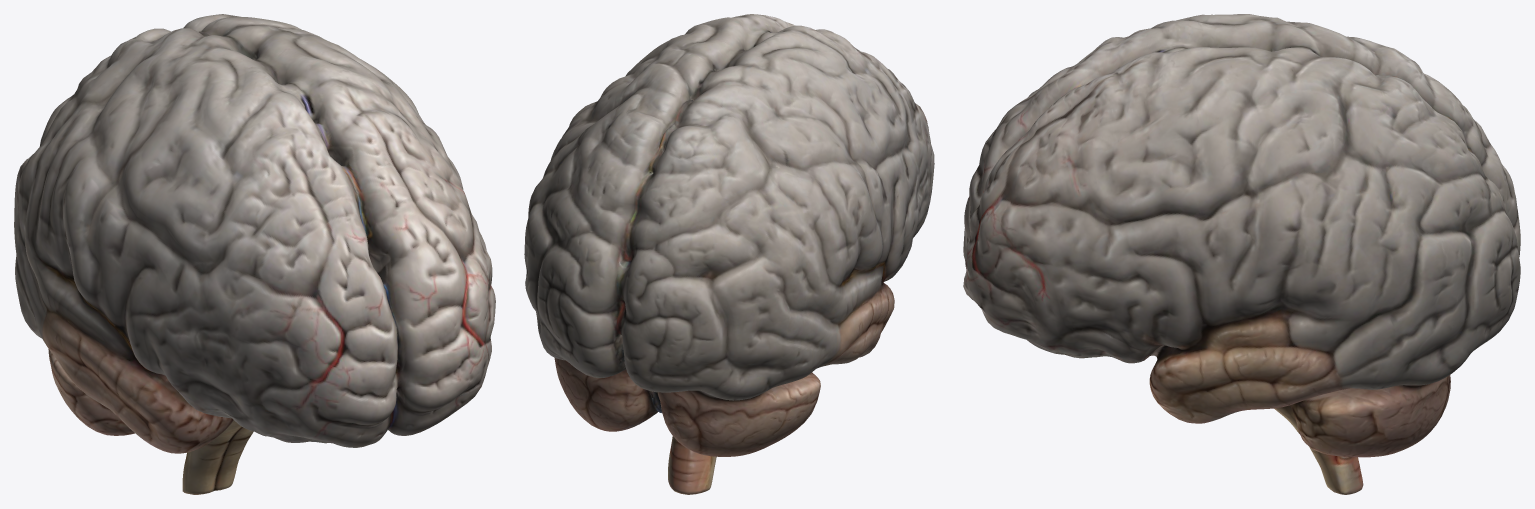
Rendered from brain.gltf.
3 renders of one model, left to right at view 1: azimuth 30°, elevation 25°; view 2: azimuth 150°, elevation 25°; view 3: azimuth 270°, elevation 25°, orthographic. The views are drawn at different scales.
Visible parts, largest first — view 1: Stylized Human Brain; view 2: Stylized Human Brain; view 3: Stylized Human Brain.
Part boxes in pixels (bbox=[...]): Stylized Human Brain: bbox=[14, 14, 495, 494]; Stylized Human Brain: bbox=[524, 14, 934, 494]; Stylized Human Brain: bbox=[963, 14, 1520, 494].
Bounding box in the file's own units: 0.0676 × 0.0877 × 0.0982.
Materials: 1 (1 with a texture image).
